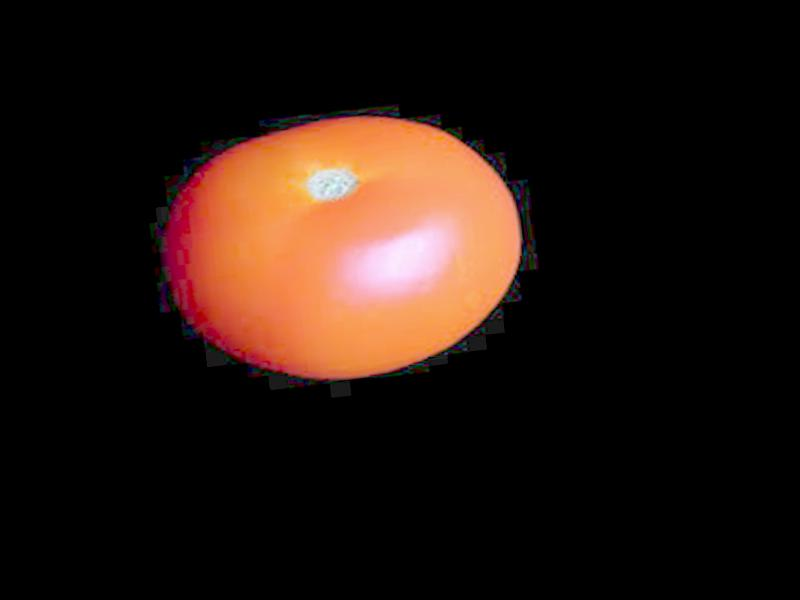Tomato: (152, 99, 535, 396)
